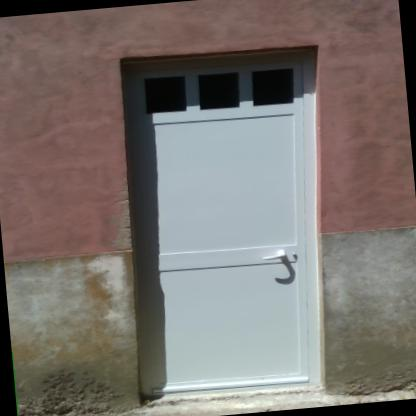closed: (96, 34, 352, 414)
